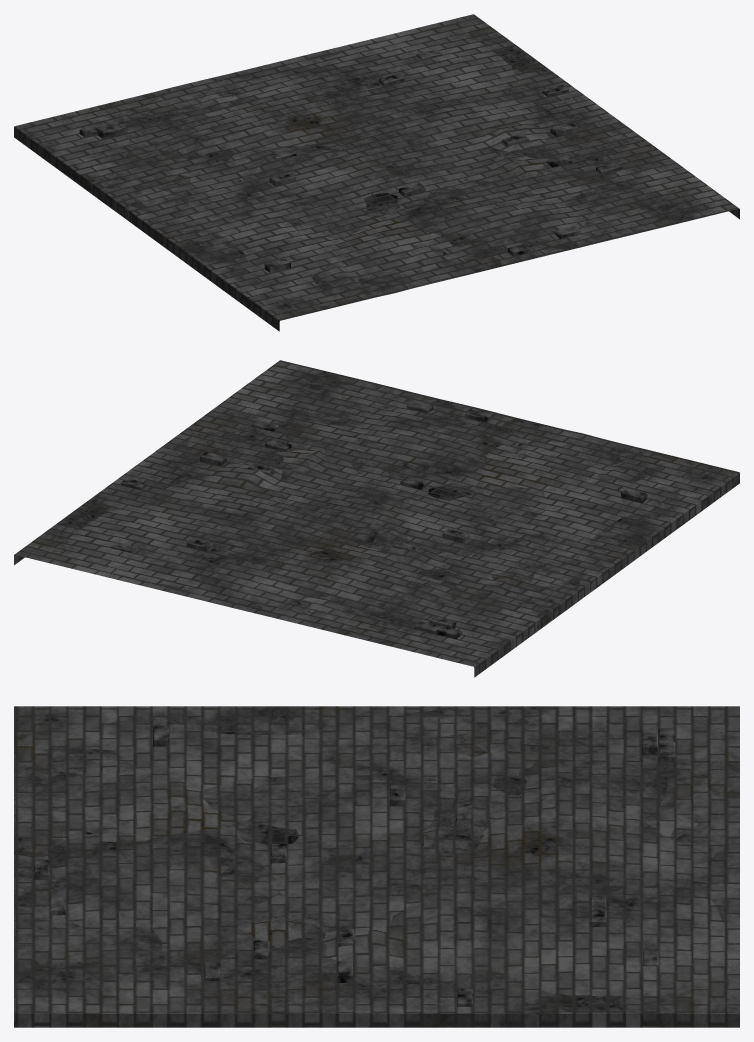
The model's file is Walls.fbx.
The picture shows the model from 3 angles, top to bottom: view 1: azimuth 30°, elevation 25°; view 2: azimuth 150°, elevation 25°; view 3: azimuth 270°, elevation 25°; orthographic projection. The views are drawn at different scales.
Visible parts, largest first — view 1: Wall.1, Wall.2, Wall.3, Wall.4, BrickAccent.1, BrickAccent.2, BrickAccent.4, BrickAccent.3; view 2: Wall.1, Wall.2, Wall.3, Wall.4, BrickAccent.1, BrickAccent.2, BrickAccent.4, BrickAccent.3; view 3: Wall.1, Wall.3, Wall.2, Wall.4, BrickAccent.1, BrickAccent.2, BrickAccent.4, BrickAccent.3.
Boxes of the visible parts, x1,y1,x2,y2 form: Wall.1: (14, 14, 739, 331); Wall.2: (15, 19, 739, 323); Wall.3: (106, 48, 739, 296); Wall.4: (16, 14, 701, 323); BrickAccent.1: (79, 49, 580, 238); BrickAccent.2: (97, 83, 622, 272); BrickAccent.4: (101, 73, 573, 186); BrickAccent.3: (270, 149, 534, 256); Wall.1: (14, 384, 739, 677); Wall.2: (20, 360, 739, 669); Wall.3: (14, 399, 682, 632); Wall.4: (16, 426, 662, 662); BrickAccent.1: (110, 401, 462, 638); BrickAccent.2: (209, 420, 647, 628); BrickAccent.4: (186, 439, 469, 634); BrickAccent.3: (393, 409, 491, 551); Wall.1: (14, 706, 739, 1013); Wall.3: (14, 708, 739, 1027); Wall.2: (14, 706, 739, 1013); Wall.4: (14, 707, 739, 1013); BrickAccent.1: (50, 728, 674, 1006); BrickAccent.2: (153, 725, 657, 980); BrickAccent.4: (253, 742, 675, 959); BrickAccent.3: (33, 804, 472, 879).
Bounding box in the file's own units: 500 × 18.58 × 500.
